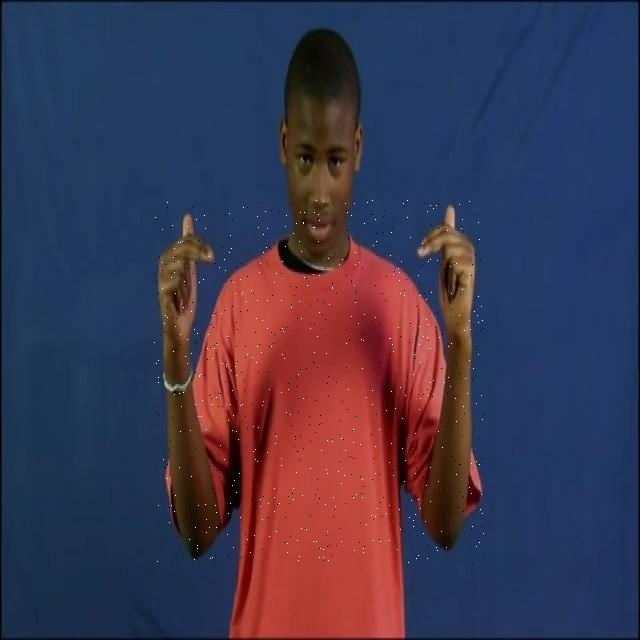bacon: (154, 200, 484, 564)
